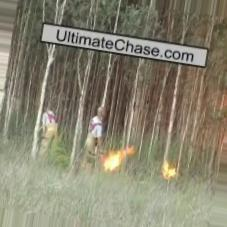fire: (96, 140, 141, 172), (159, 160, 181, 180)
